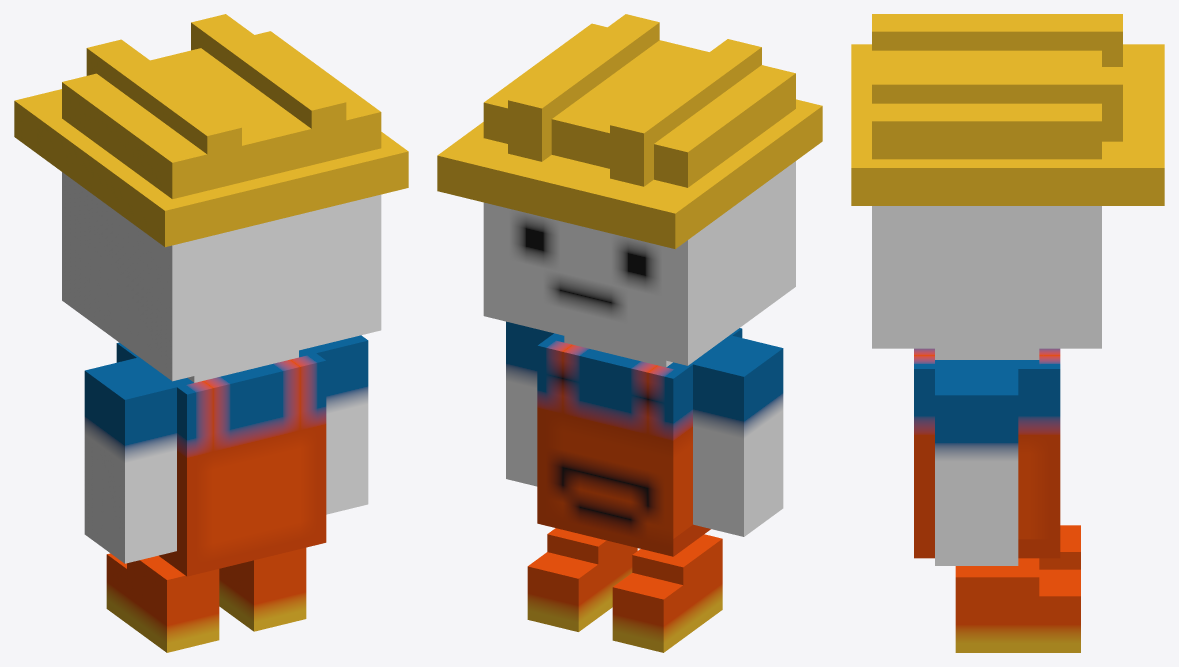
The model's file is Player.fbx.
The picture shows the model from 3 angles, left to right: view 1: azimuth 30°, elevation 25°; view 2: azimuth 150°, elevation 25°; view 3: azimuth 270°, elevation 25°; orthographic projection. The views are drawn at different scales.
Parts seen in each view (by area): view 1: Player; view 2: Player; view 3: Player.
Part boxes in pixels (x1,y1,x2,y2): Player: [14, 14, 408, 652]; Player: [437, 14, 822, 652]; Player: [851, 14, 1164, 652].
Size of the model in its own units: 14 by 30 by 15.
1 material, 1 textured.
